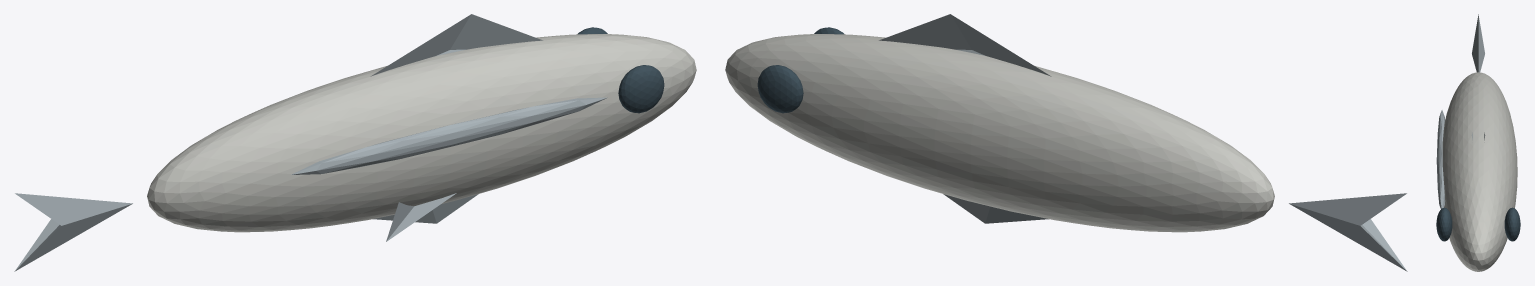
The model's file is Ikan_Tamban.glb.
The picture shows the model from 3 angles, left to right: view 1: azimuth 30°, elevation 25°; view 2: azimuth 150°, elevation 25°; view 3: azimuth 270°, elevation 25°; orthographic projection. The views are drawn at different scales.
Visible parts, largest first — view 1: Part_00, Part_07, Part_01, Part_02, Part_05, Part_04, Part_03; view 2: Part_00, Part_01, Part_02, Part_06, Part_03; view 3: Part_00, Part_07, Part_01, Part_05, Part_06.
Boxes of the visible parts, x1=… form: Part_00: x1=147, y1=34, x2=696, y2=232; Part_07: x1=291, y1=97, x2=607, y2=174; Part_01: x1=14, y1=193, x2=132, y2=271; Part_02: x1=370, y1=14, x2=542, y2=76; Part_05: x1=618, y1=65, x2=664, y2=113; Part_04: x1=386, y1=193, x2=456, y2=241; Part_03: x1=373, y1=194, x2=478, y2=223; Part_00: x1=725, y1=34, x2=1274, y2=232; Part_01: x1=1289, y1=193, x2=1407, y2=271; Part_02: x1=879, y1=14, x2=1051, y2=76; Part_06: x1=757, y1=65, x2=803, y2=113; Part_03: x1=943, y1=194, x2=1048, y2=223; Part_00: x1=1442, y1=72, x2=1517, y2=271; Part_07: x1=1436, y1=110, x2=1445, y2=208; Part_01: x1=1472, y1=14, x2=1484, y2=72; Part_05: x1=1436, y1=207, x2=1452, y2=241; Part_06: x1=1504, y1=207, x2=1520, y2=241.
Size of the model in its own units: 1.16 by 0.3289 by 0.1881.
